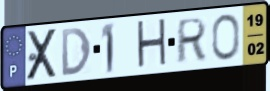1: (99, 22, 117, 75)
D: (60, 26, 93, 79)
H: (135, 16, 169, 72)
O: (210, 13, 242, 63)
R: (174, 15, 209, 66)
X: (24, 26, 60, 84)
